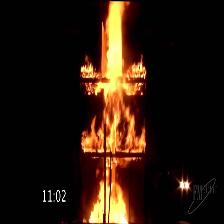fire: (89, 0, 130, 221)
